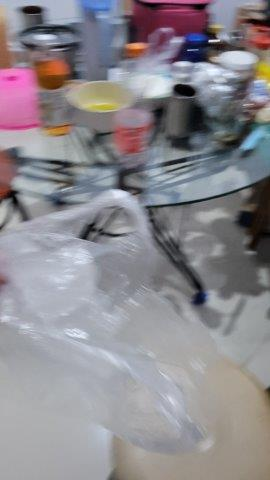plastik: (1, 191, 219, 451)
